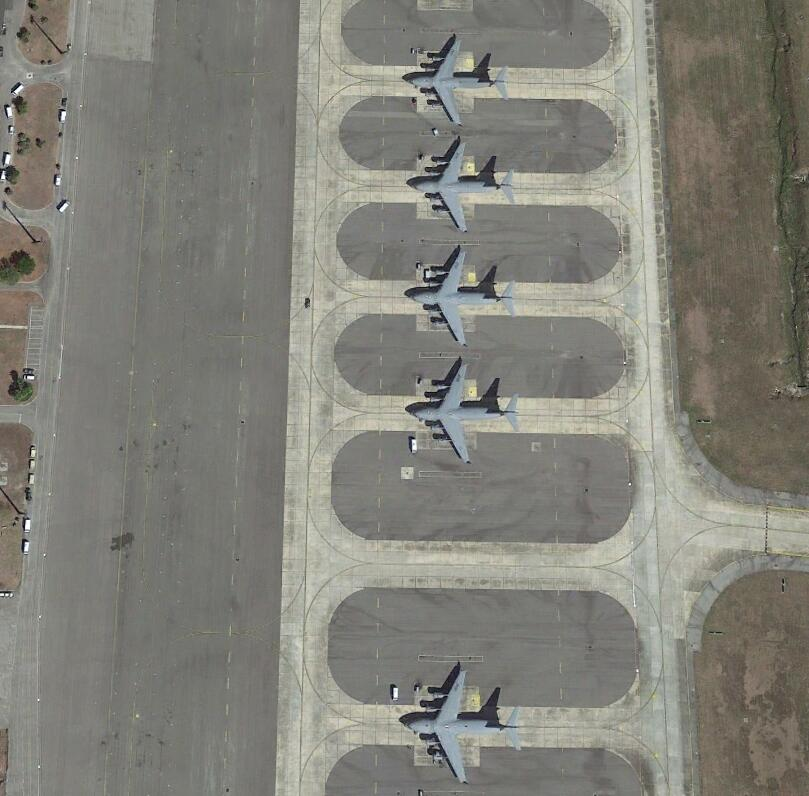A3: (402, 670, 522, 783), (406, 363, 524, 465), (404, 250, 519, 345), (409, 140, 516, 233), (406, 36, 511, 125)
